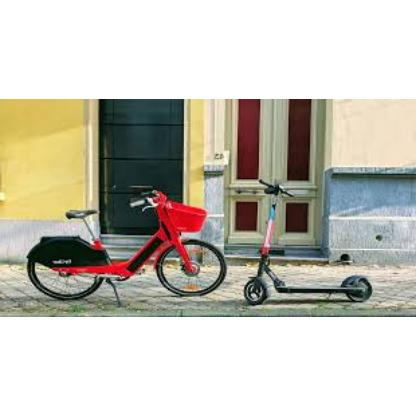bike: (26, 186, 228, 307), (243, 178, 373, 307)
